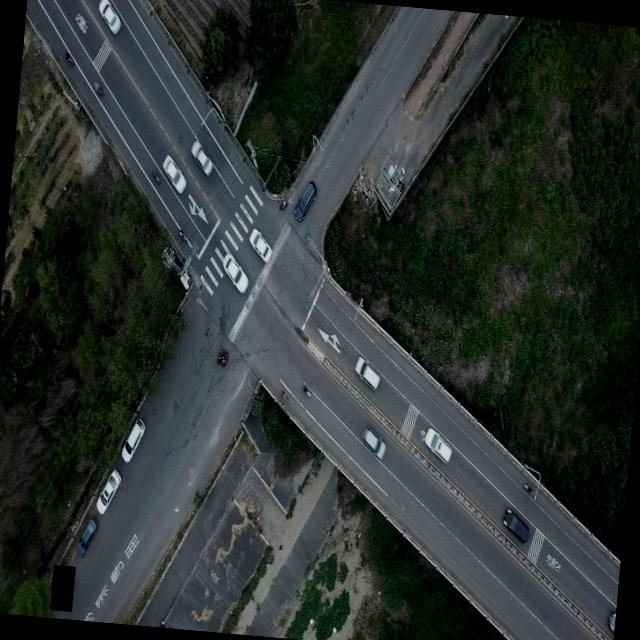bike: (298, 374, 316, 402), (274, 191, 290, 214), (90, 78, 106, 99), (64, 48, 73, 64)
car: (217, 250, 250, 294), (95, 465, 122, 515), (420, 426, 453, 464), (159, 153, 188, 195), (499, 504, 531, 542), (120, 416, 145, 462), (358, 424, 388, 460), (352, 354, 382, 390), (188, 138, 216, 176), (293, 178, 316, 222), (75, 514, 98, 558), (246, 226, 274, 262), (95, 0, 122, 35), (606, 608, 616, 637)
